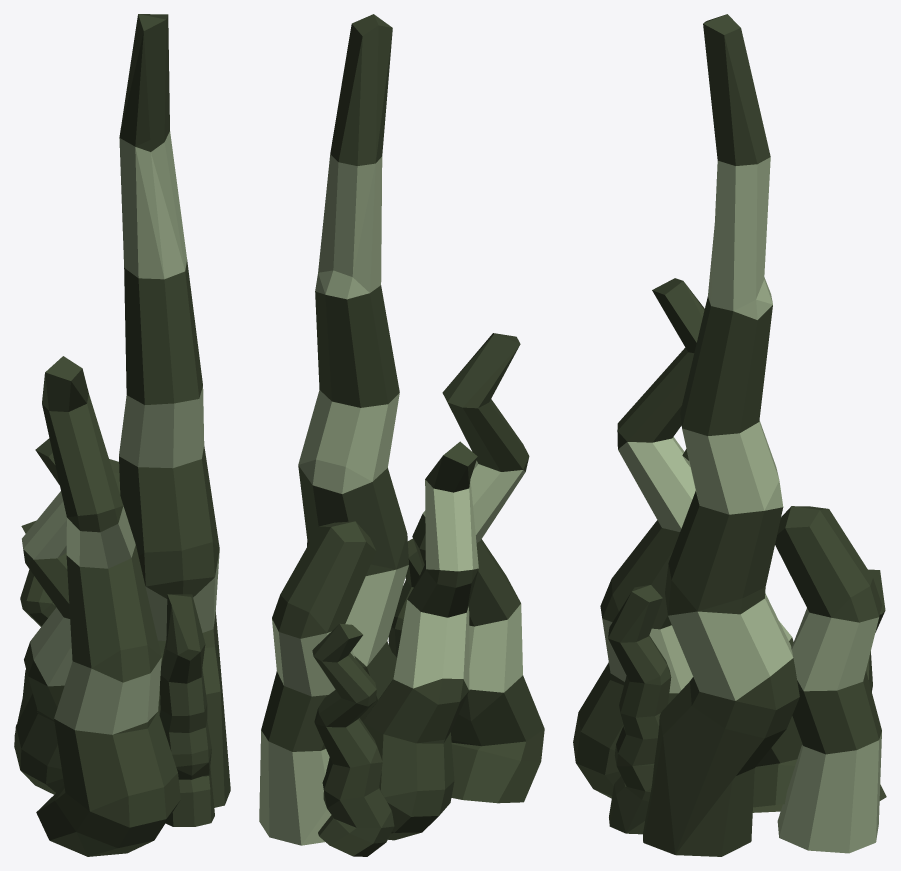
The model's file is EA_Swamp_Grass_01b.001.glb.
3 renders of one model, left to right at view 1: azimuth 30°, elevation 25°; view 2: azimuth 150°, elevation 25°; view 3: azimuth 270°, elevation 25°, orthographic. The views are drawn at different scales.
Visible parts, largest first — view 1: EA_Swamp_Grass_01b.001; view 2: EA_Swamp_Grass_01b.001; view 3: EA_Swamp_Grass_01b.001.
Boxes of the visible parts, x1,y1,x2,y2 form: EA_Swamp_Grass_01b.001: (14, 14, 230, 856); EA_Swamp_Grass_01b.001: (259, 14, 544, 856); EA_Swamp_Grass_01b.001: (573, 14, 886, 856).
Bounding box in the file's own units: 0.2378 × 0.898 × 0.3105.
Materials: 1 (1 with a texture image).
